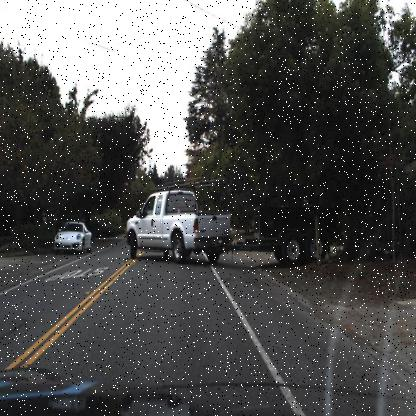car: (128, 186, 333, 264), (53, 221, 89, 257)
